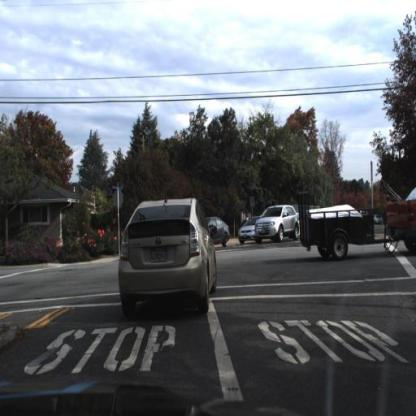car: (294, 158, 415, 270), (118, 196, 218, 316), (255, 204, 296, 244), (238, 213, 262, 240)
